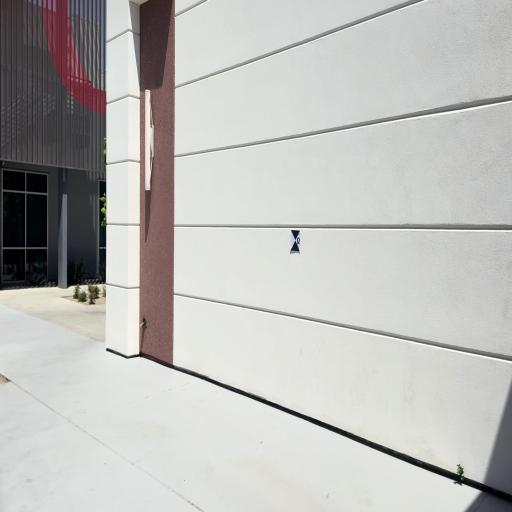target0: (290, 230, 300, 252)
